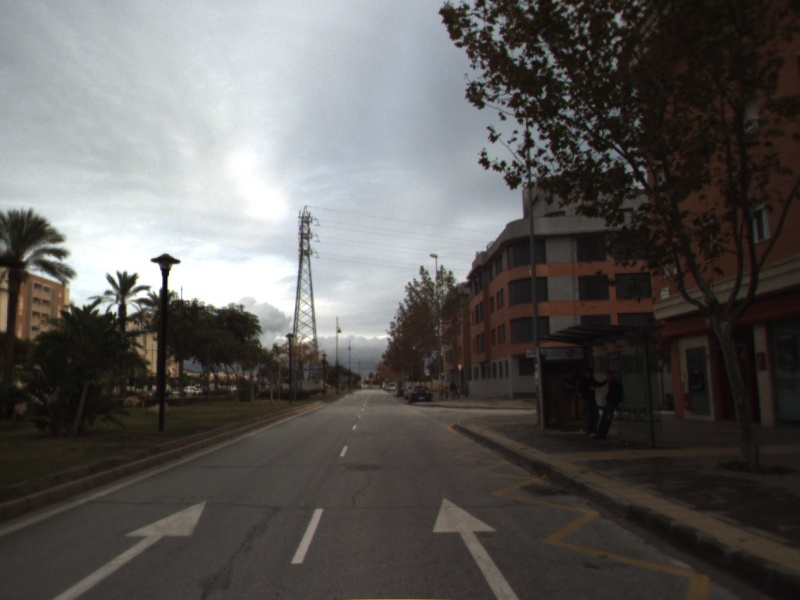STRAIGHT: (47, 497, 210, 600), (431, 495, 525, 600)
